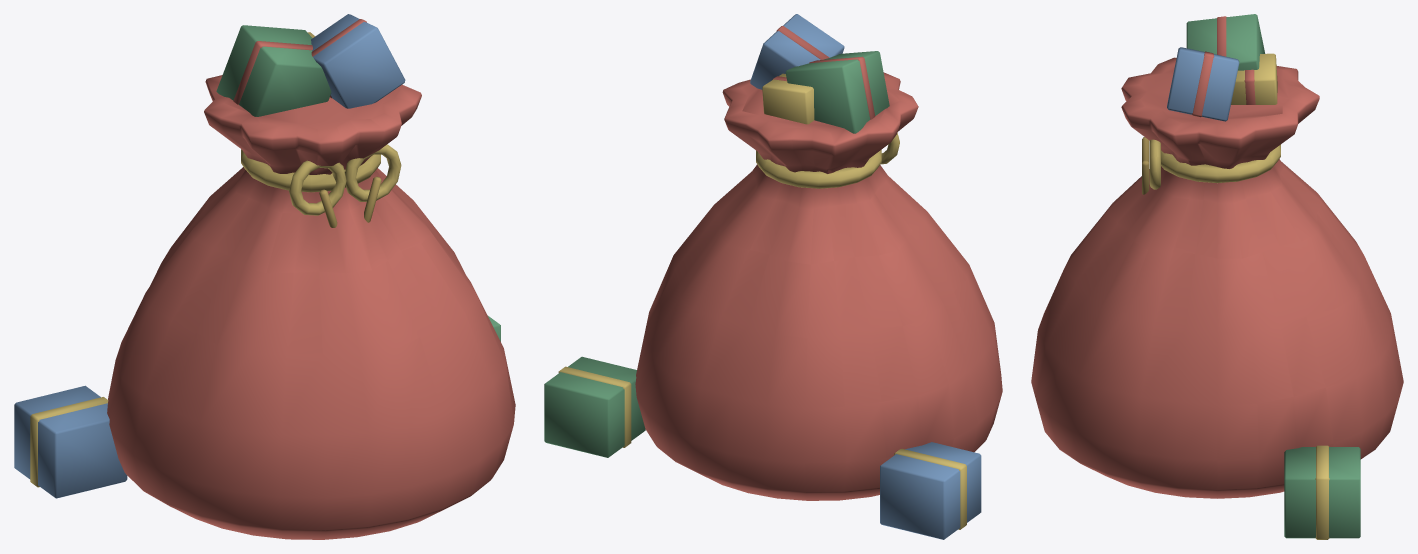
Rendered from xmas_gift_sack.glb.
3 views of the same model, side by side, from view 1: azimuth 30°, elevation 25°; view 2: azimuth 150°, elevation 25°; view 3: azimuth 270°, elevation 25° (orthographic). The views are drawn at different scales.
Bounding box in the file's own units: 0.985 × 0.9461 × 0.78.
